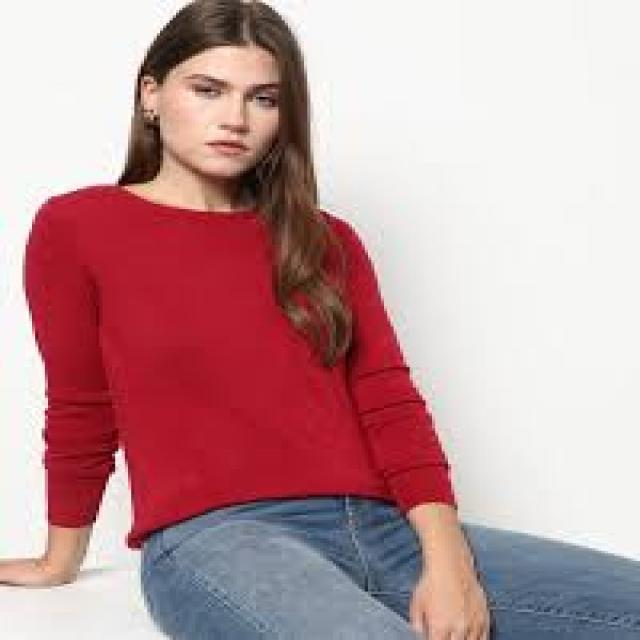plain: (19, 184, 452, 515)
